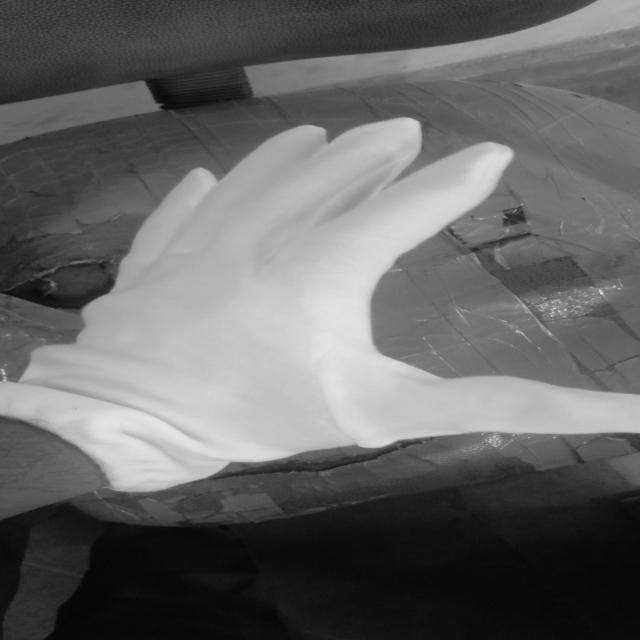Gloves: (7, 112, 640, 492)
